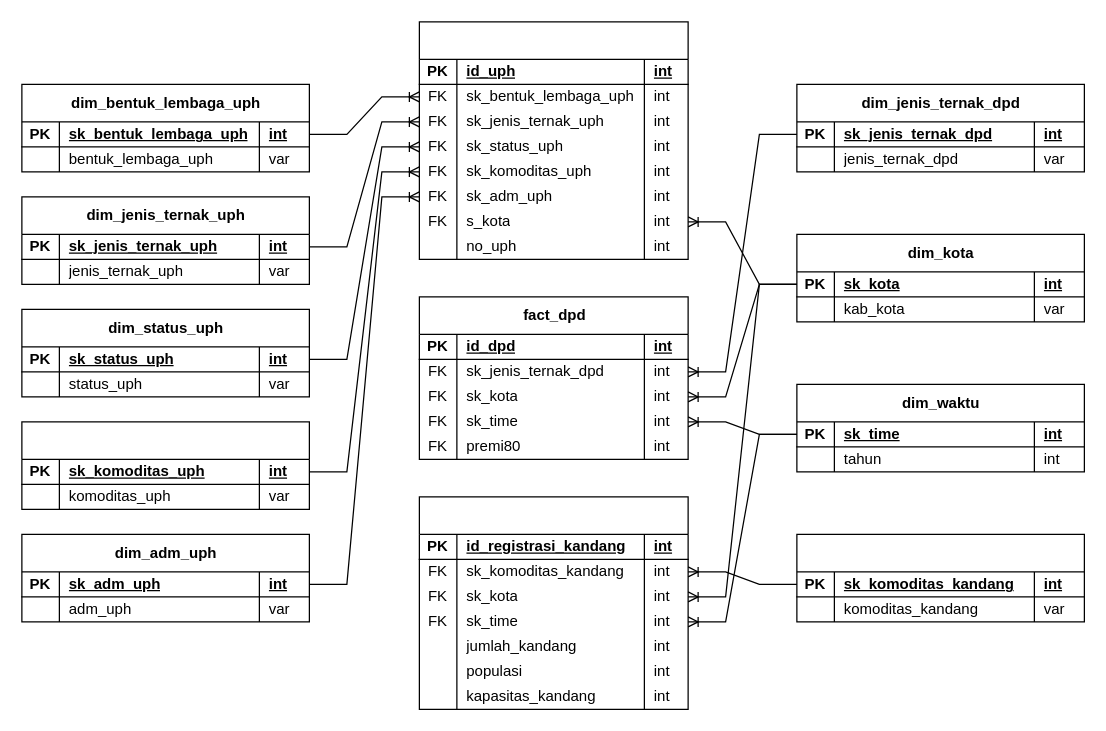
The diagram is 1106 pixels wide and 731 high, and some of its shapes have lost their labels. The shapes that lost their labels are listed below. From the top down, each one's box as (x1, y1, x2, y2) in pixels, then its label:
(418, 21, 688, 259): fact_uph
(21, 421, 309, 509): dim_komoditas_uph
(796, 533, 1084, 622): dim_komoditas_kandang
(418, 496, 688, 709): fact_registrasi_kandang
